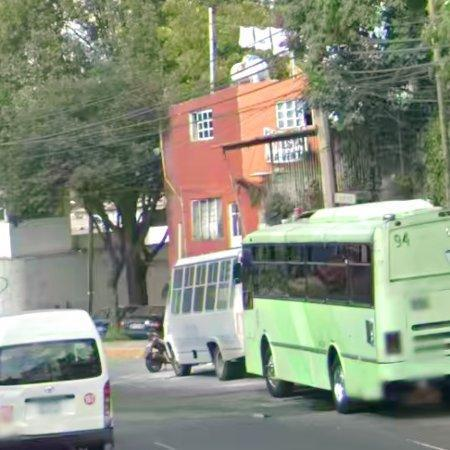buses: (243, 200, 450, 414), (164, 249, 245, 381)
